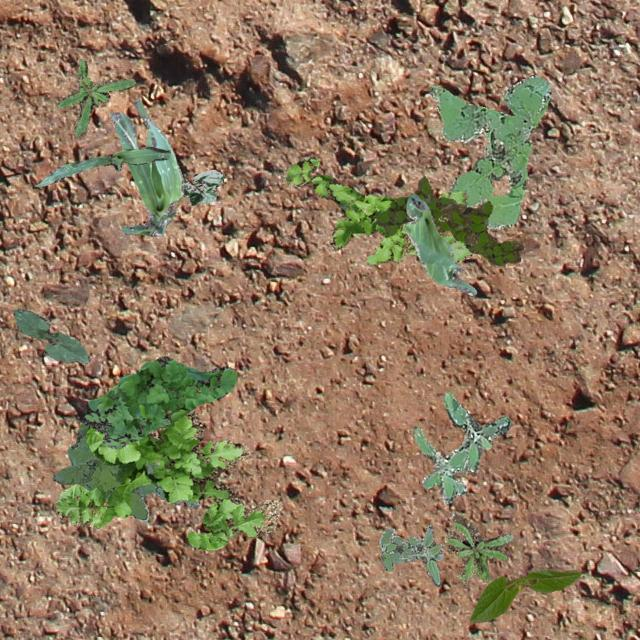crop: (109, 96, 182, 235), (402, 193, 476, 294), (468, 568, 580, 622), (36, 146, 170, 187), (12, 308, 88, 362), (182, 168, 222, 204)
weed: (54, 408, 280, 548), (282, 156, 470, 264), (428, 74, 550, 228), (52, 422, 198, 520), (81, 356, 236, 448), (374, 176, 522, 264), (412, 392, 510, 502), (56, 58, 134, 136), (444, 514, 512, 582), (378, 524, 442, 586)
